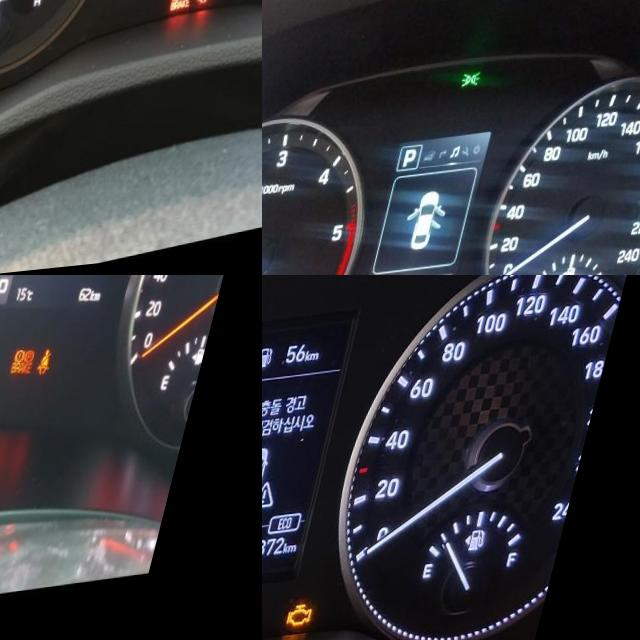SideLamp: (467, 76, 490, 96)
